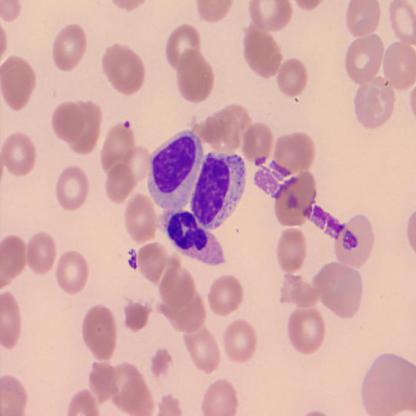Myelocyte: (190, 150, 248, 230)
